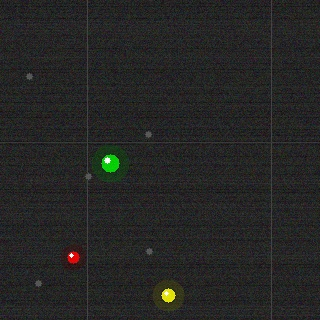green_normal: (99, 152, 121, 174)
red_fault: (65, 249, 81, 265)
yellow_warning: (159, 286, 177, 304)
